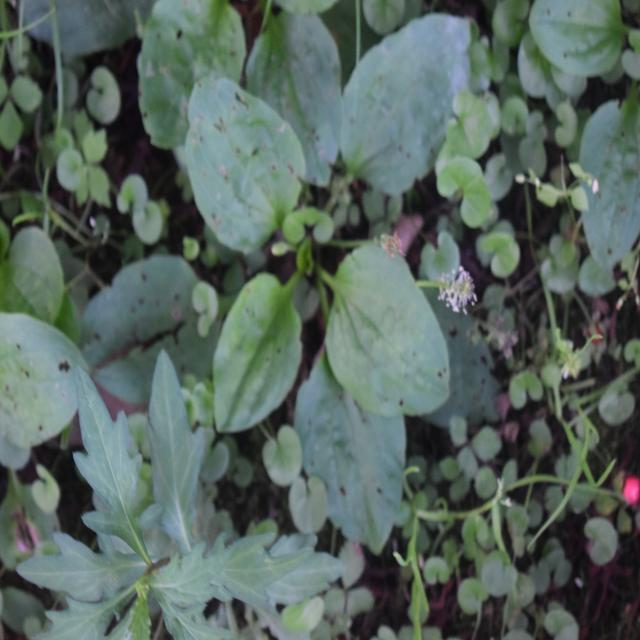plantain: (182, 46, 475, 512)
